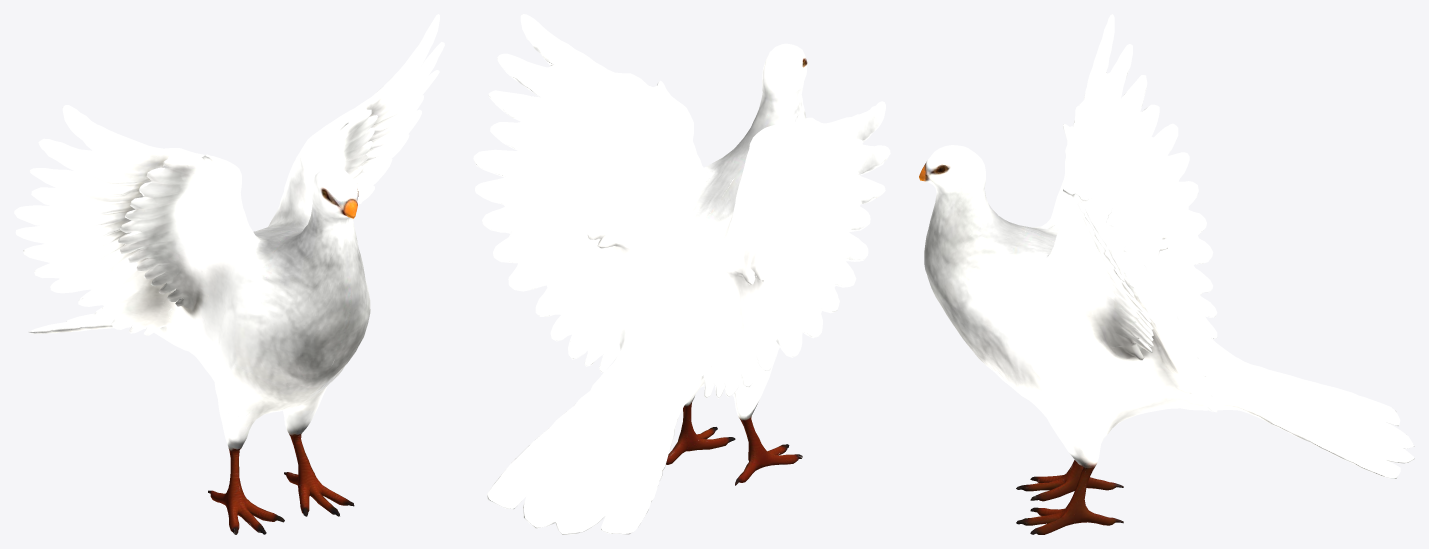
File: dove.glb
3 renders of one model, left to right at view 1: azimuth 30°, elevation 25°; view 2: azimuth 150°, elevation 25°; view 3: azimuth 270°, elevation 25°, orthographic. The views are drawn at different scales.
Bounding box in the file's own units: 1.7 × 1.72 × 1.89.
1 material, 1 textured.
